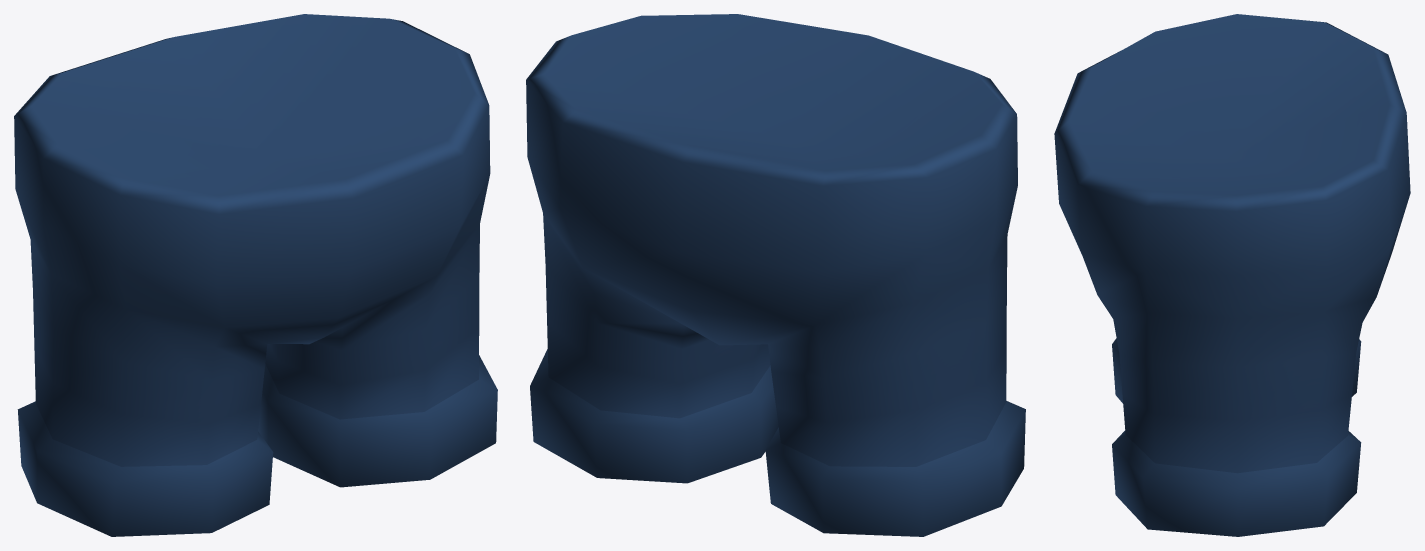
The model's file is Bottom_9.fbx.
3 renders of one model, left to right at view 1: azimuth 30°, elevation 25°; view 2: azimuth 150°, elevation 25°; view 3: azimuth 270°, elevation 25°, orthographic. The views are drawn at different scales.
Visible parts, largest first — view 1: Bottom_9; view 2: Bottom_9; view 3: Bottom_9.
Part boxes in pixels (x1,y1,x2,y2): Bottom_9: (14, 14, 497, 536); Bottom_9: (526, 14, 1025, 536); Bottom_9: (1054, 14, 1410, 536).
Bounding box in the file's own units: 39.48 × 32.12 × 29.68.
